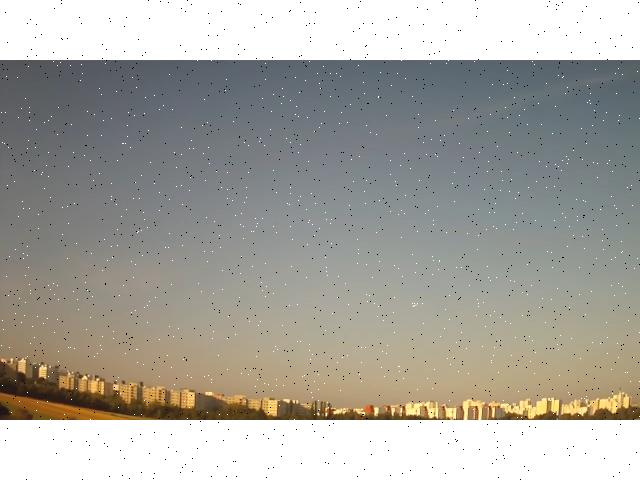Anti-Drone: (403, 299, 425, 310)
